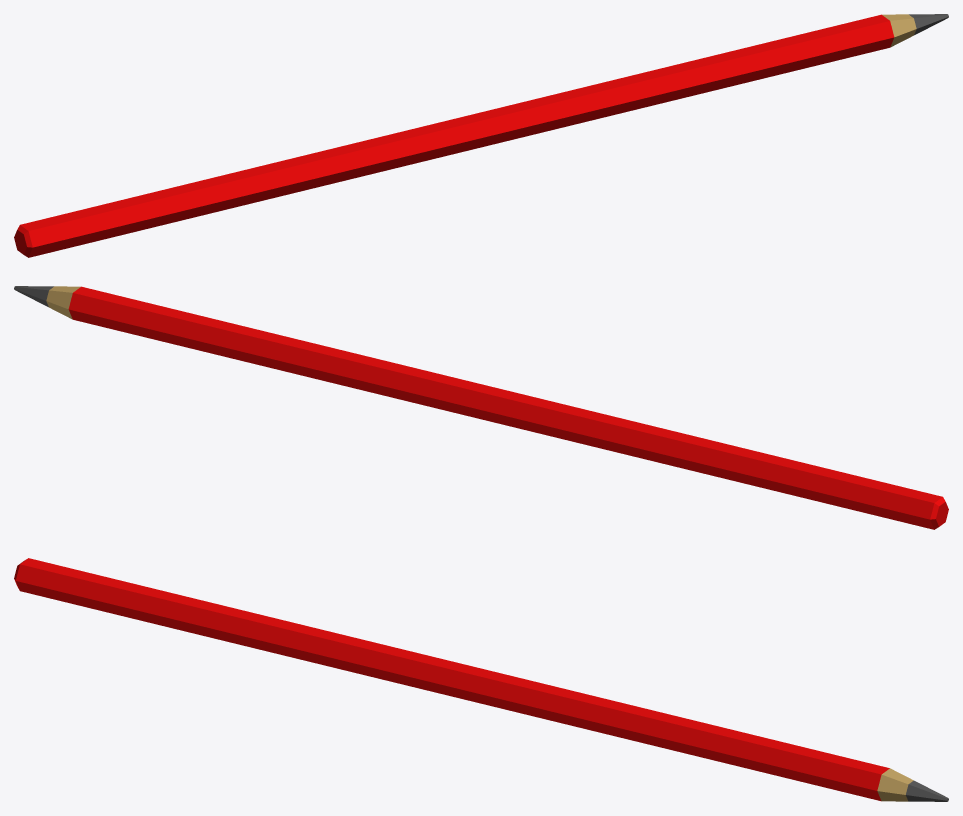
Rendered from Blyant_Rød.fbx.
The picture shows the model from 3 angles, top to bottom: view 1: azimuth 30°, elevation 25°; view 2: azimuth 150°, elevation 25°; view 3: azimuth 330°, elevation 25°; orthographic projection.
Parts seen in each view (by area): view 1: Cylinder.008; view 2: Cylinder.008; view 3: Cylinder.008.
Boxes of the visible parts, x1,y1,x2,y2 form: Cylinder.008: (14, 14, 948, 257); Cylinder.008: (14, 286, 948, 529); Cylinder.008: (14, 558, 948, 801).
Bounding box in the file's own units: 32.67 × 0.9034 × 1.04.
